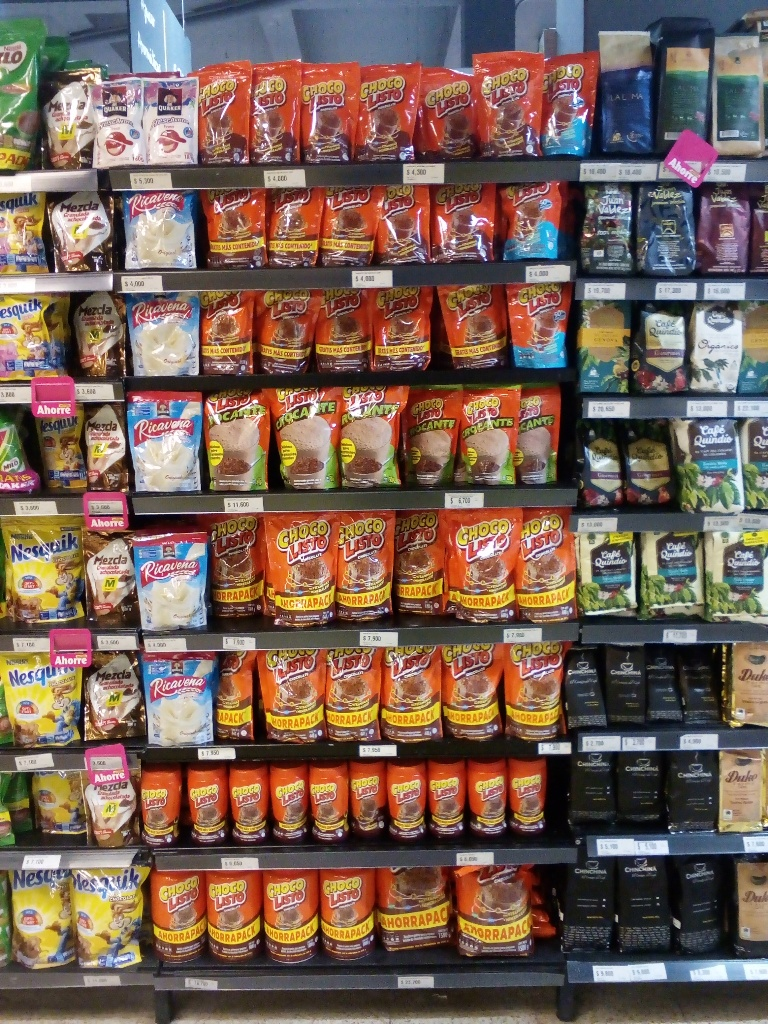COL0170102DYP25000: (402, 386, 463, 490)
COL0170102DYP50000: (196, 384, 270, 495)
COL0170103DYP1,500: (377, 862, 452, 959)
COL0170103DYP44000: (209, 642, 256, 743)
COL0170103TRR00100: (144, 861, 204, 971)
COL0170104DYP20000: (542, 48, 600, 158)
COL0170305DYP20000: (0, 188, 58, 271)
COL0170306DYP20000: (24, 399, 88, 495)
